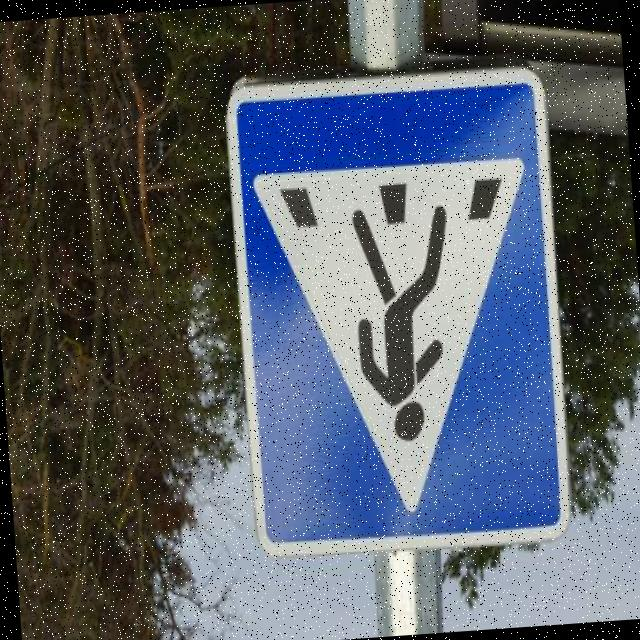crosswalk: (214, 42, 582, 573)
